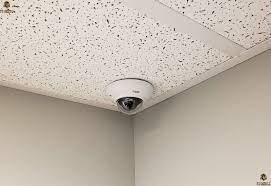CCTV: (109, 78, 153, 116)
